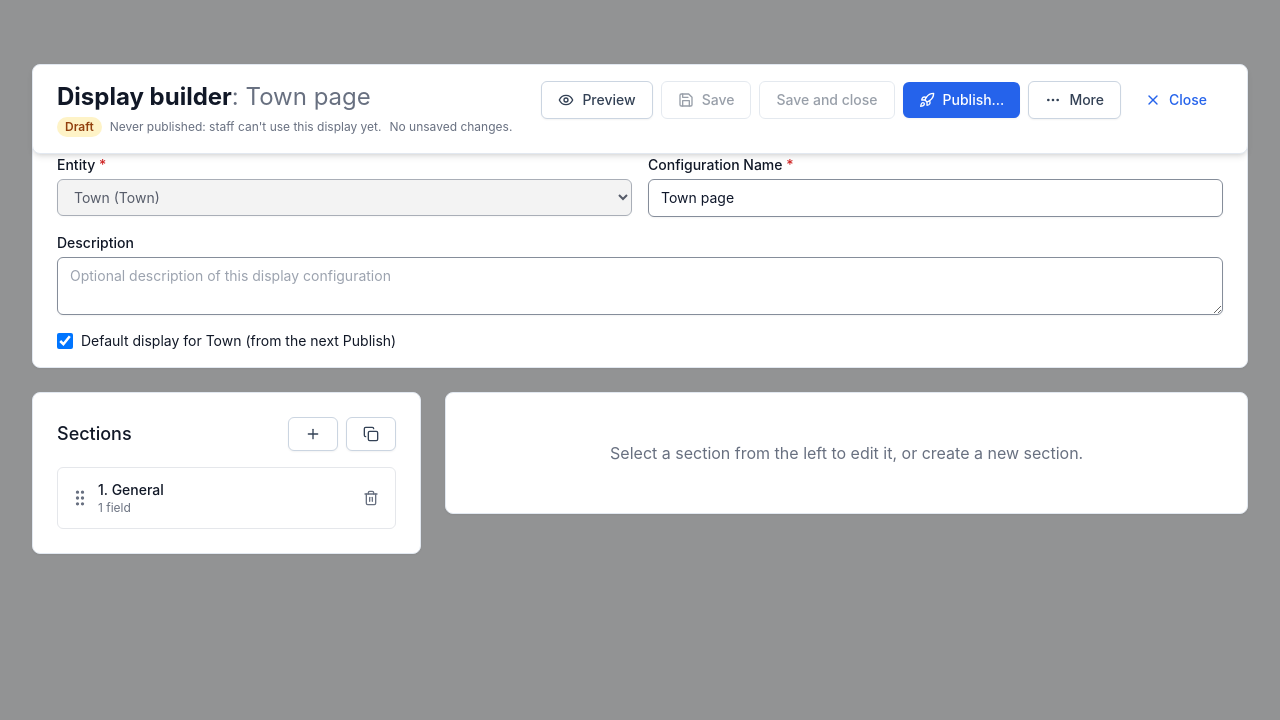
Test case: a never-published display can't be duplicated or discarded yet, and says why
Check: the header with test id "builder-toolbar" is shown, box [32, 64, 1248, 154]
Check: the text with test id "builder-status" reads "Draft", box [65, 119, 94, 134]
Click the button "More".
click(1075, 100)  # box [1028, 81, 1121, 119]
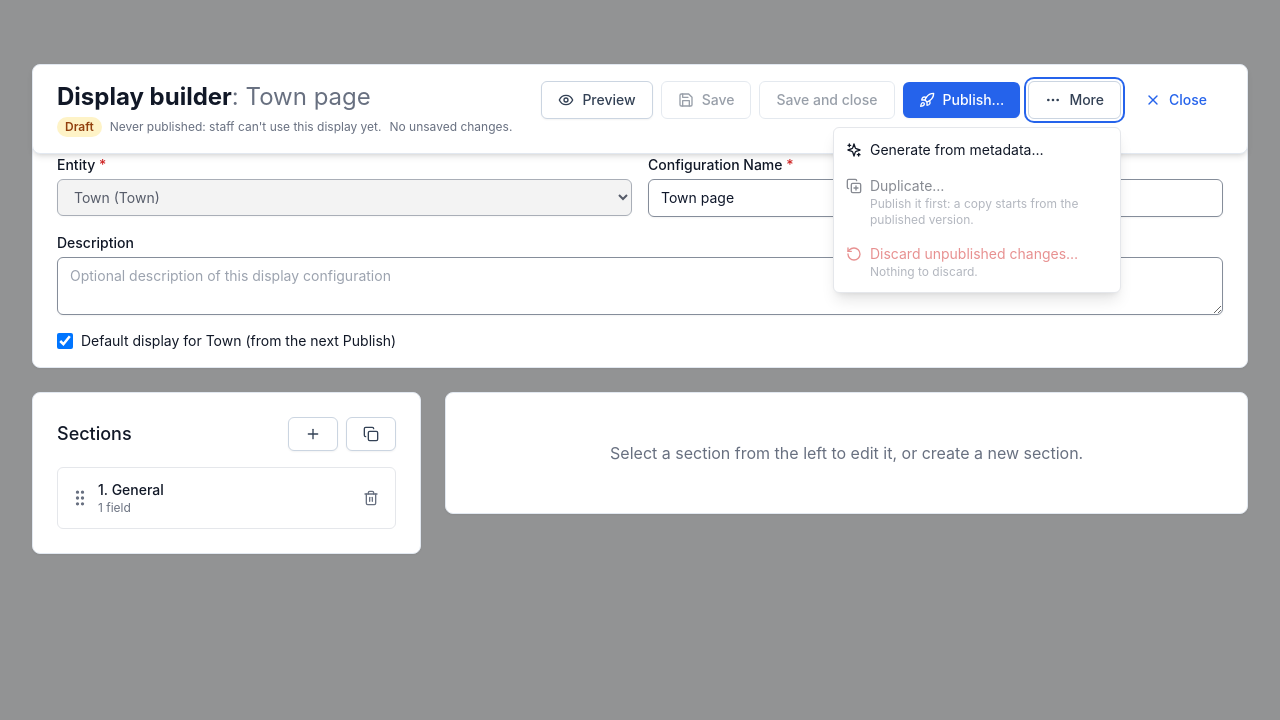
Check: the menu item "Duplicate" is disabled, box [834, 168, 1120, 236]
Check: the menu item "Duplicate" shows "Publish it first", box [834, 168, 1120, 236]
Check: the menu item "Discard unpublished changes… Nothing to discard." is disabled, box [834, 236, 1120, 288]
